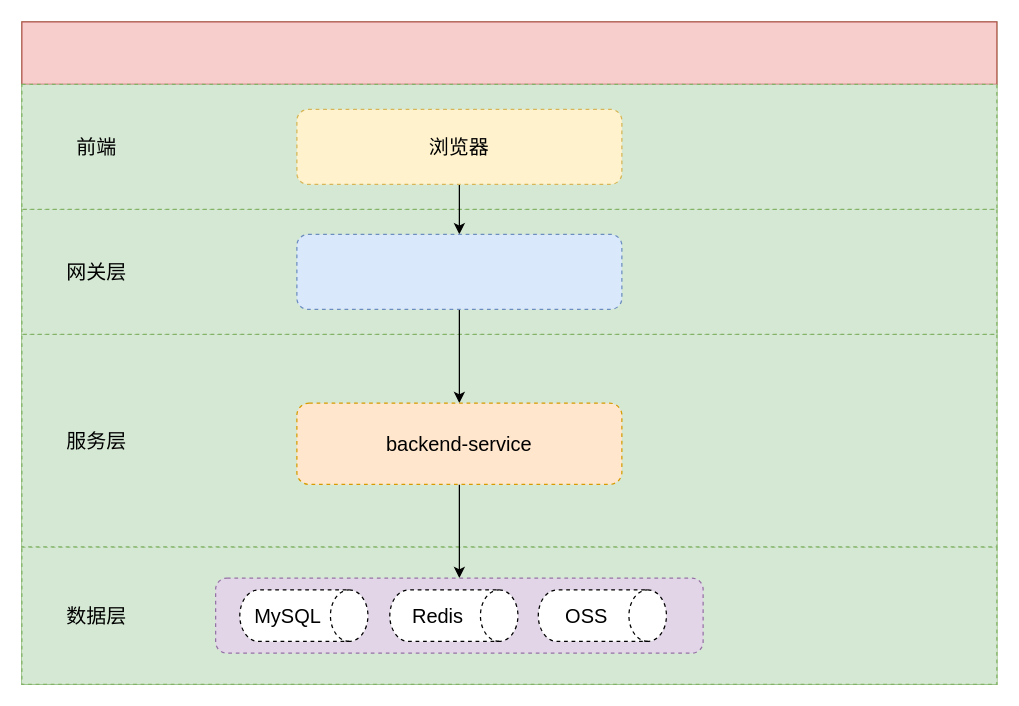
The diagram is 1019 pixels wide and 706 high, and some of its shapes have lost their labels. The centre of each missing label's shape, as x and y in pixels:
"Nginx" belongs at (459,271).
"wenyuange(文渊阁)单体架构图" belongs at (509,52).
